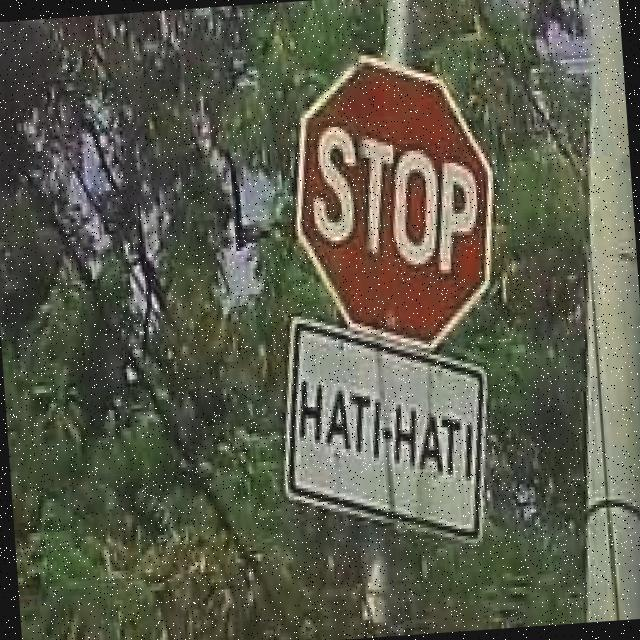Stop: (298, 50, 499, 351)
